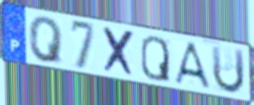7: (69, 18, 96, 73)
A: (172, 40, 213, 91)
Q: (27, 16, 66, 66), (140, 34, 172, 84)
U: (210, 44, 246, 96)
X: (102, 25, 137, 80)
